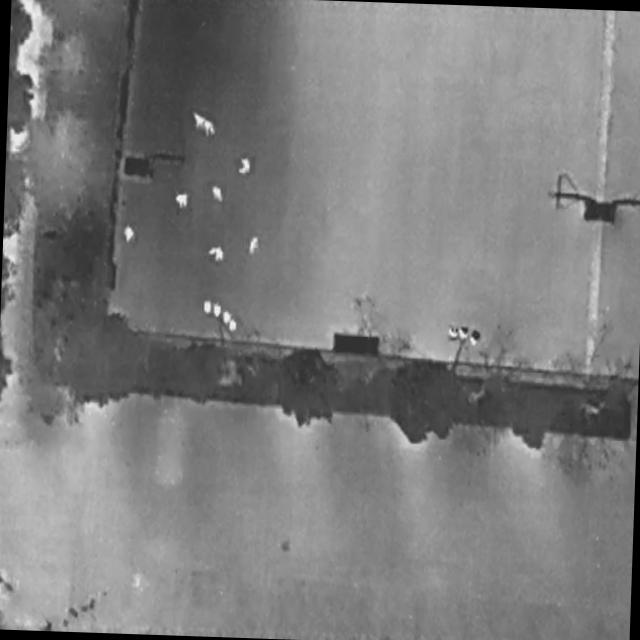person: (187, 107, 211, 135), (200, 117, 219, 142), (246, 235, 261, 259), (207, 246, 226, 264), (238, 158, 253, 178), (175, 191, 189, 210), (211, 186, 225, 204), (124, 225, 136, 245)
